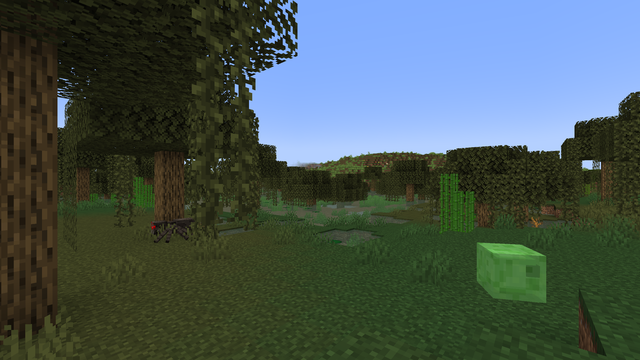araignees: (146, 215, 192, 243)
slimes: (478, 239, 536, 305)
